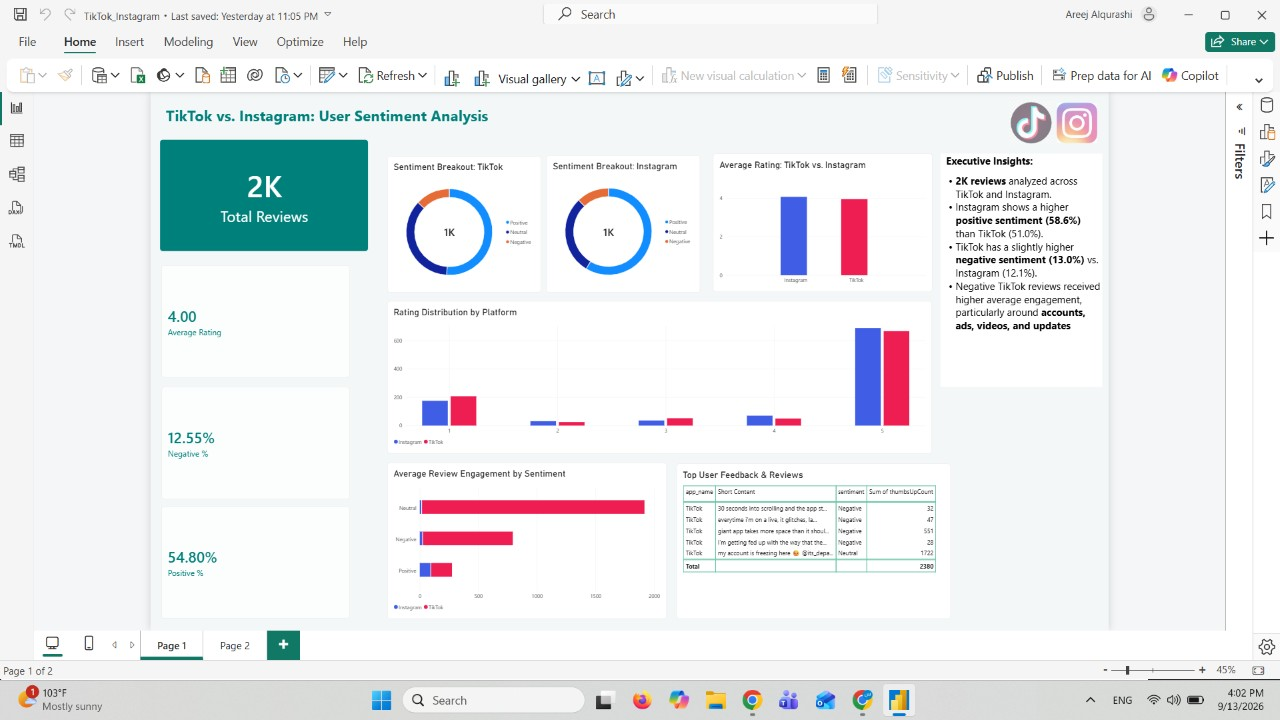

What the dashboard file says about the page in this screenshot:
{"tool":"powerbi","page":{"name":"Page 1","canvas":[2560,1440],"ordinal":0},"visuals":[{"type":"shape","box":[2110.4,164.4,431.9,623.3],"z":0},{"type":"donutChart","title":"Sentiment Breakout: TikTok","fields":{"Category":["instagram_tiktok_reviews_final.sentiment"],"Series":["instagram_tiktok_reviews_final.app_name"],"Y":["CountNonNull(instagram_tiktok_reviews_final.content)"]},"box":[633.1,171.8,410,364],"z":1000},{"type":"clusteredColumnChart","title":"Average Rating: TikTok vs. Instagram","fields":{"Category":["instagram_tiktok_reviews_final.app_name"],"Y":["instagram_tiktok_reviews_final.Average Rating"]},"box":[1501.9,165,586,369.8],"z":2000},{"type":"clusteredColumnChart","title":"Rating Distribution by Platform","fields":{"Category":["instagram_tiktok_reviews_final.score"],"Series":["instagram_tiktok_reviews_final.app_name"],"Y":["CountNonNull(instagram_tiktok_reviews_final.content)"]},"box":[633.1,559.5,1455.2,407.4],"z":3000},{"type":"tableEx","title":"Top User Feedback & Reviews","fields":{"Values":["instagram_tiktok_reviews_final.app_name","instagram_tiktok_reviews_final.Short Content","instagram_tiktok_reviews_final.sentiment","Sum(instagram_tiktok_reviews_final.thumbsUpCount)"]},"box":[1404.3,992.9,732.9,414.3],"z":4000},{"type":"cardVisual","fields":{"Data":["instagram_tiktok_reviews_final.Average Rating"]},"box":[29,463.8,503.1,300],"z":5000},{"type":"cardVisual","fields":{"Data":["instagram_tiktok_reviews_final.Positive %"]},"box":[29,1106.9,503.1,300],"z":6000},{"type":"cardVisual","fields":{"Data":["instagram_tiktok_reviews_final.Total Reviews"]},"box":[24.5,127.6,557.1,299.4],"z":7000},{"type":"cardVisual","fields":{"Data":["instagram_tiktok_reviews_final.Negative %"]},"box":[29.9,788.2,503.1,300],"z":8000},{"type":"barChart","title":"Average Review Engagement by Sentiment","fields":{"Category":["instagram_tiktok_reviews_final.sentiment"],"Series":["instagram_tiktok_reviews_final.app_name"],"Y":["Sum(instagram_tiktok_reviews_final.thumbsUpCount)"]},"box":[633.1,991.4,746,417.2],"z":9000},{"type":"actionButton","title":"TikTok vs. Instagram: User Sentiment Analysis","box":[29.4,19.6,937.5,87.5],"z":10000},{"type":"image","box":[2260.1,24.5,186.5,117.8],"z":11000},{"type":"image","box":[2409.8,29.4,132.5,108],"z":12000},{"type":"image","box":[201.2,1200,103.1,110.4],"z":13000},{"type":"image","box":[201.2,900.6,130.1,135],"z":14000},{"type":"image","box":[201.2,554.6,127.6,166.9],"z":15000},{"type":"textbox","box":[2110.4,164.4,431.9,623.3],"z":16000},{"type":"donutChart","title":"Sentiment Breakout: Instagram","fields":{"Category":["instagram_tiktok_reviews_final.sentiment"],"Series":["instagram_tiktok_reviews_final.app_name"],"Y":["CountNonNull(instagram_tiktok_reviews_final.content)"]},"box":[1058,170,410,366],"z":17000}]}

Visuals, with their boxes on the page's 2560x1440 design canvas (x1, y1, x2, y2). These are canvas units, not pixel positions in the 1280x720 screenshot, which may show the page scaled, cropped or inside an application window:
shape: bbox=[2110, 164, 2542, 788]
"Sentiment Breakout: TikTok" donutChart: bbox=[633, 172, 1043, 536]
"Average Rating: TikTok vs. Instagram" clusteredColumnChart: bbox=[1502, 165, 2088, 535]
"Rating Distribution by Platform" clusteredColumnChart: bbox=[633, 560, 2088, 967]
"Top User Feedback & Reviews" tableEx: bbox=[1404, 993, 2137, 1407]
cardVisual - instagram_tiktok_reviews_final.Average Rating: bbox=[29, 464, 532, 764]
cardVisual - instagram_tiktok_reviews_final.Positive %: bbox=[29, 1107, 532, 1407]
cardVisual - instagram_tiktok_reviews_final.Total Reviews: bbox=[24, 128, 582, 427]
cardVisual - instagram_tiktok_reviews_final.Negative %: bbox=[30, 788, 533, 1088]
"Average Review Engagement by Sentiment" barChart: bbox=[633, 991, 1379, 1409]
"TikTok vs. Instagram: User Sentiment Analysis" actionButton: bbox=[29, 20, 967, 107]
image: bbox=[2260, 24, 2447, 142]
image: bbox=[2410, 29, 2542, 137]
image: bbox=[201, 1200, 304, 1310]
image: bbox=[201, 901, 331, 1036]
image: bbox=[201, 555, 329, 722]
textbox: bbox=[2110, 164, 2542, 788]
"Sentiment Breakout: Instagram" donutChart: bbox=[1058, 170, 1468, 536]
